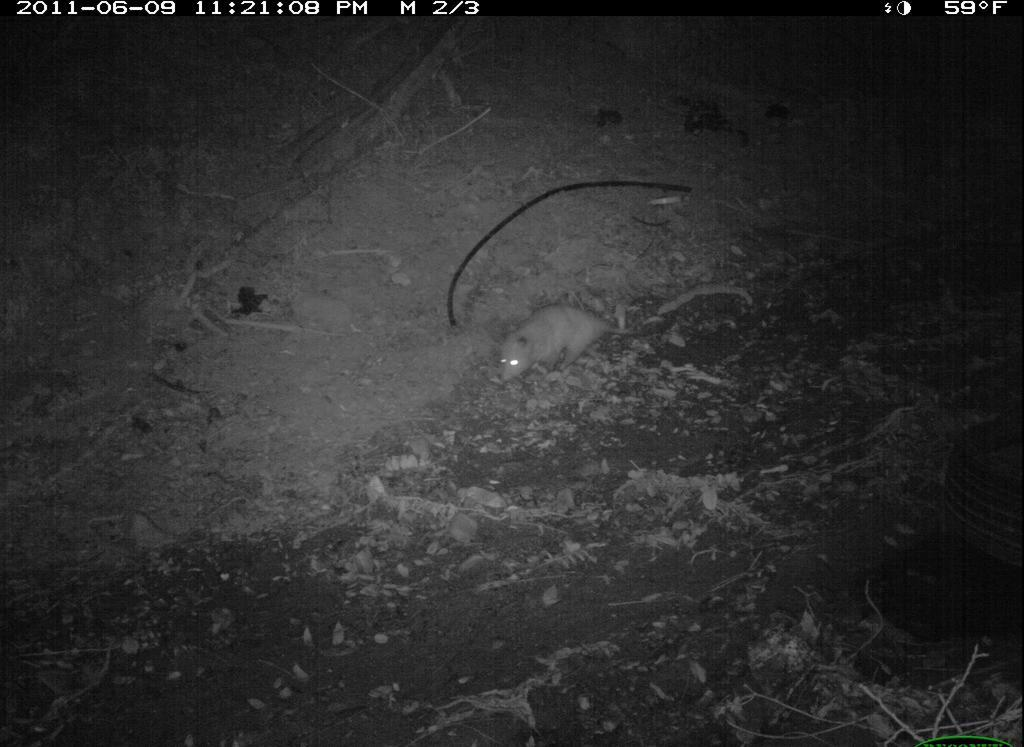opossum: (479, 286, 641, 387)
